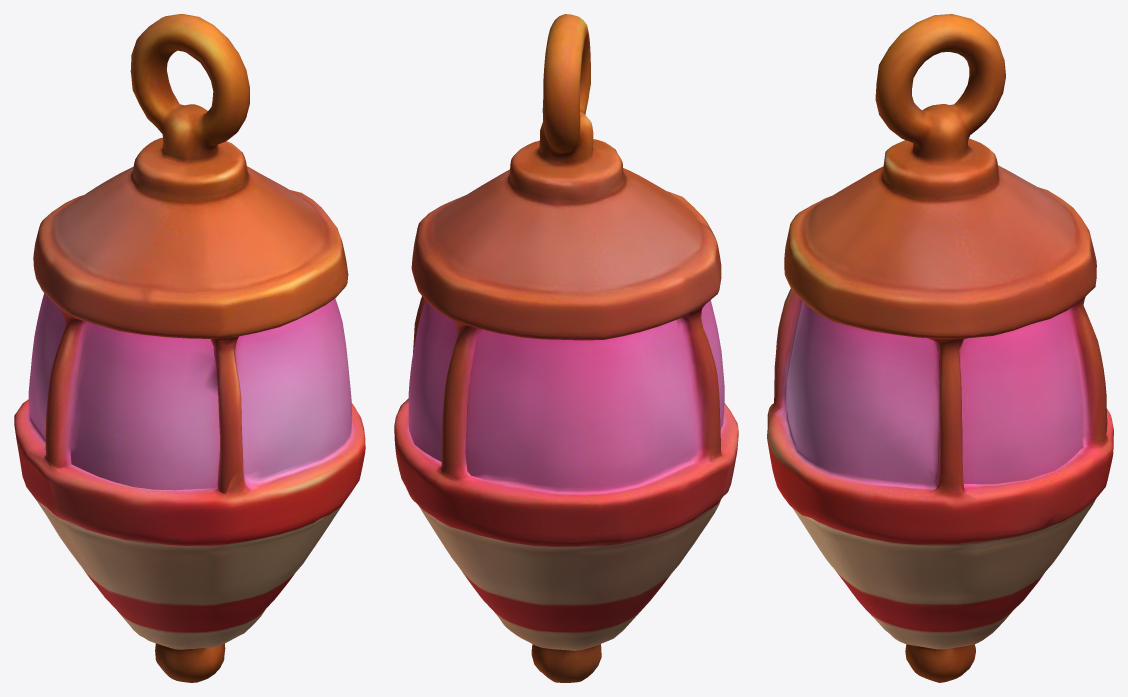
The model's file is squid-float.glb.
3 renders of one model, left to right at view 1: azimuth 30°, elevation 25°; view 2: azimuth 150°, elevation 25°; view 3: azimuth 270°, elevation 25°, orthographic.
Parts seen in each view (by area): view 1: tripo_node_8ed5e6c3-8bce-4713-bf7c-7d81d27edfd5; view 2: tripo_node_8ed5e6c3-8bce-4713-bf7c-7d81d27edfd5; view 3: tripo_node_8ed5e6c3-8bce-4713-bf7c-7d81d27edfd5.
Boxes of the visible parts, left/top/right/bottom form: tripo_node_8ed5e6c3-8bce-4713-bf7c-7d81d27edfd5: left=14, top=14, right=365, bottom=682; tripo_node_8ed5e6c3-8bce-4713-bf7c-7d81d27edfd5: left=394, top=14, right=738, bottom=682; tripo_node_8ed5e6c3-8bce-4713-bf7c-7d81d27edfd5: left=767, top=14, right=1113, bottom=682.
Size of the model in its own units: 0.4816 by 0.9978 by 0.4732.
Materials: 1 (1 with a texture image).
